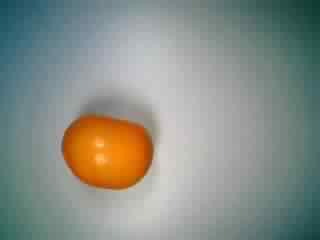orange: (60, 111, 154, 192)
